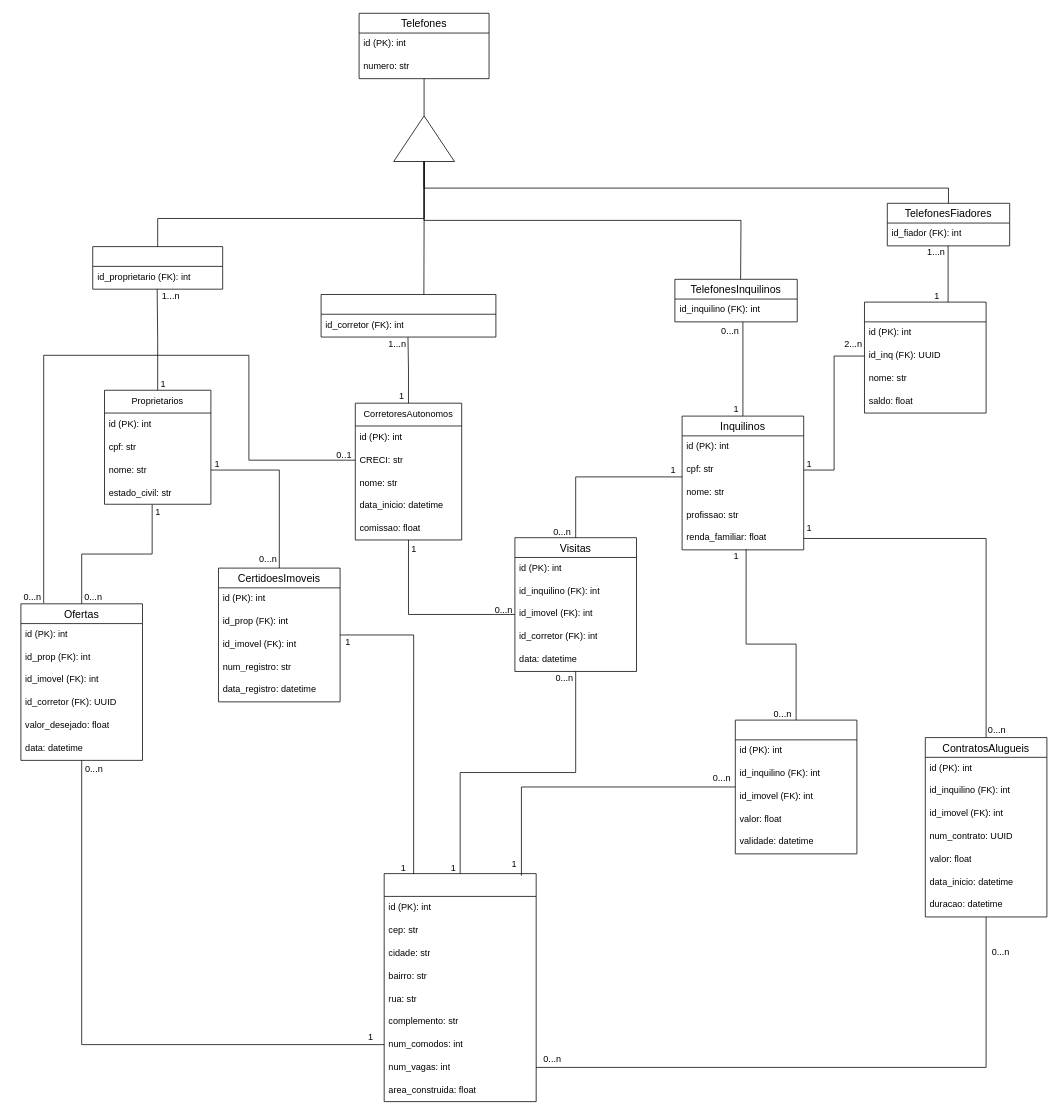
This 1060x1115 diagram has some shape labels left out. The shapes that lost their labels are listed below. From the top down, each one's box as (x1, y1, x2, y2) in pixels, then its label:
(92, 246, 223, 289): TelefonesProprietarios
(320, 294, 496, 337): TelefonesCorretoresAutonomos
(864, 301, 986, 413): Fiadores
(735, 719, 857, 854): Propostas
(383, 873, 536, 1102): Imoveis
